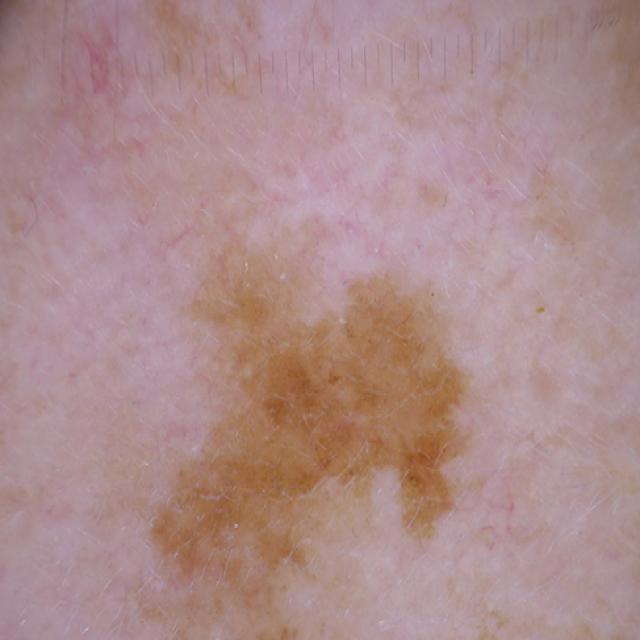Keratosis: (113, 197, 578, 640)
